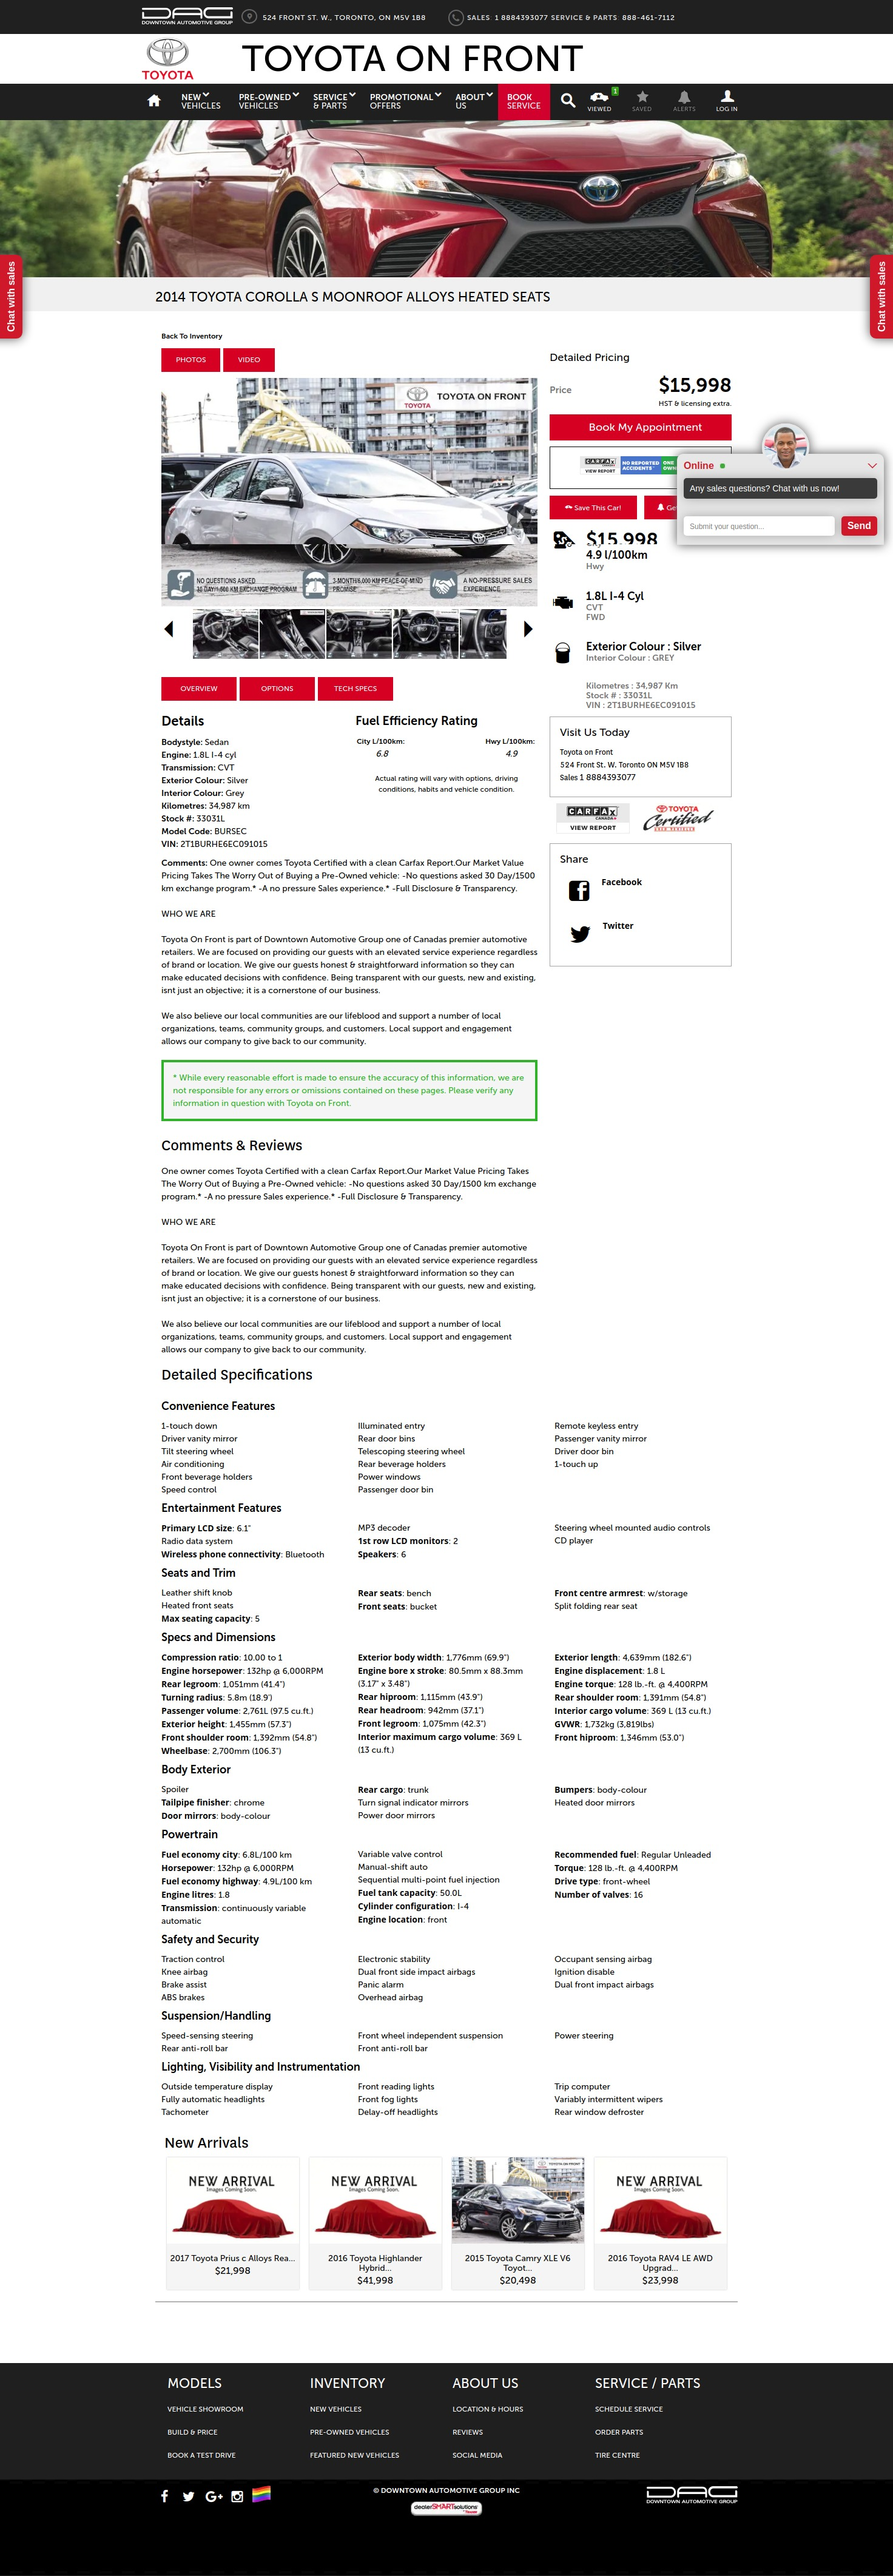car: (524, 619, 534, 639)
